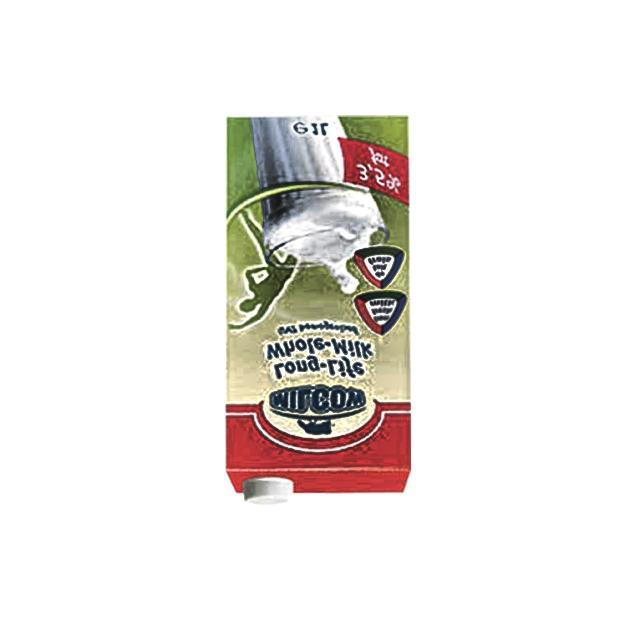cardboard: (225, 115, 412, 504)
